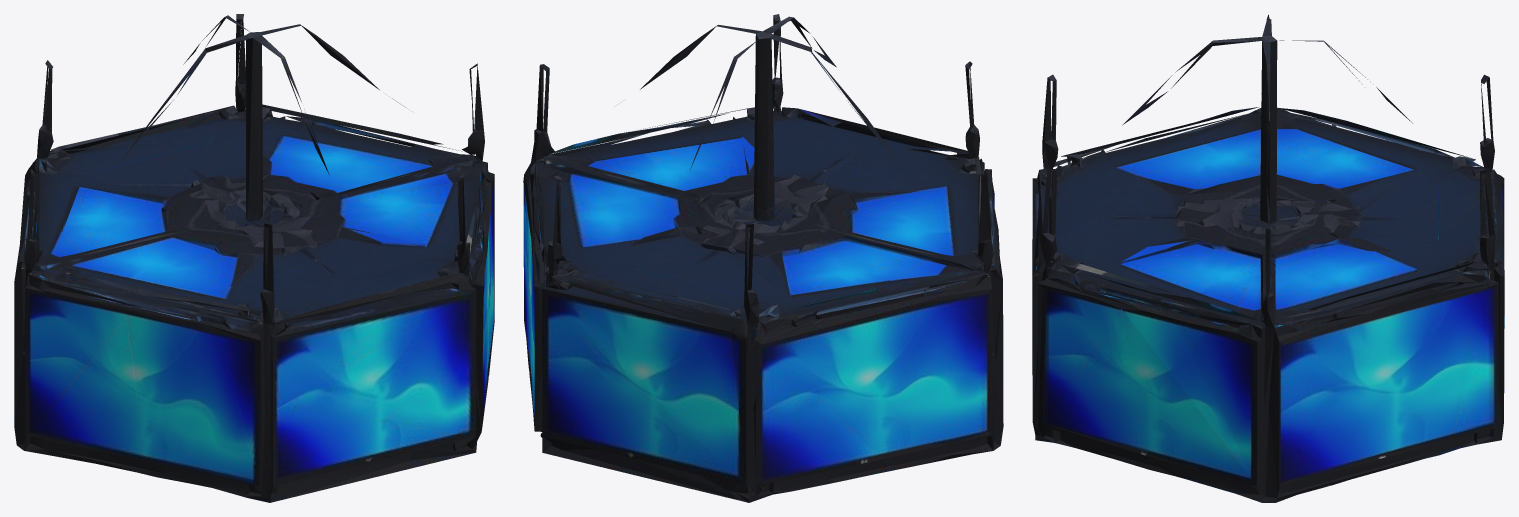
Rendered from arena_scoreboard.glb.
3 views of the same model, side by side, from view 1: azimuth 30°, elevation 25°; view 2: azimuth 150°, elevation 25°; view 3: azimuth 270°, elevation 25° (orthographic).
Parts seen in each view (by area): view 1: arena_scoreboard; view 2: arena_scoreboard; view 3: arena_scoreboard.
Boxes of the visible parts, bbox=[...] form: arena_scoreboard: bbox=[14, 14, 494, 502]; arena_scoreboard: bbox=[523, 14, 1003, 502]; arena_scoreboard: bbox=[1032, 14, 1504, 502].
Size of the model in its own units: 6 by 4.82 by 5.31.
1 material, 1 textured.
